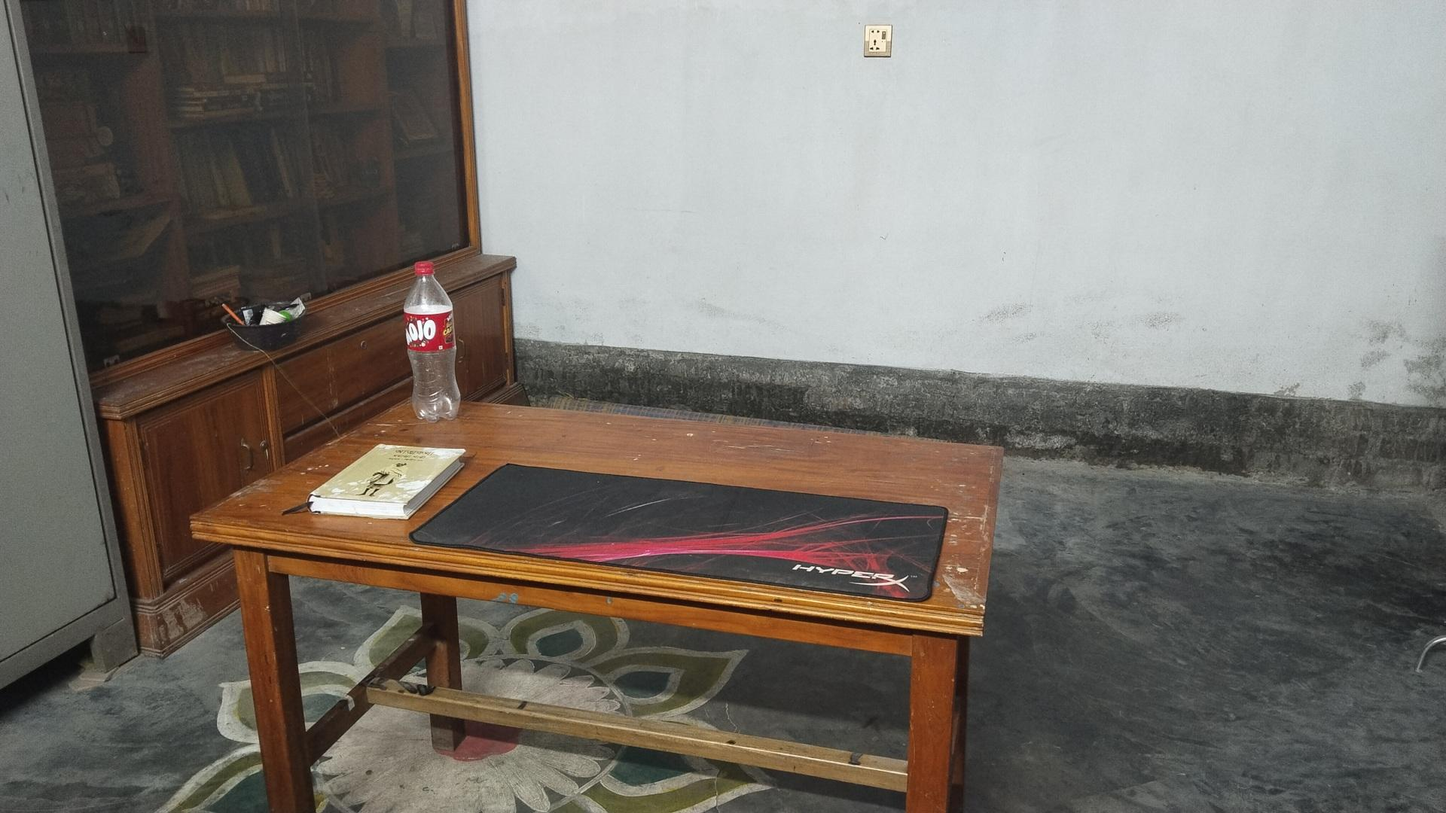Book: (303, 445, 473, 522)
Bottle: (398, 257, 460, 431)
Table: (189, 388, 996, 813)
